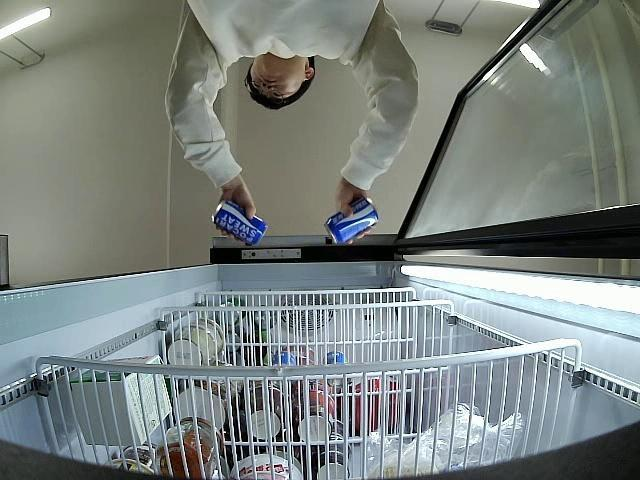13_pocariSweat: (324, 194, 380, 246), (212, 202, 267, 243)
